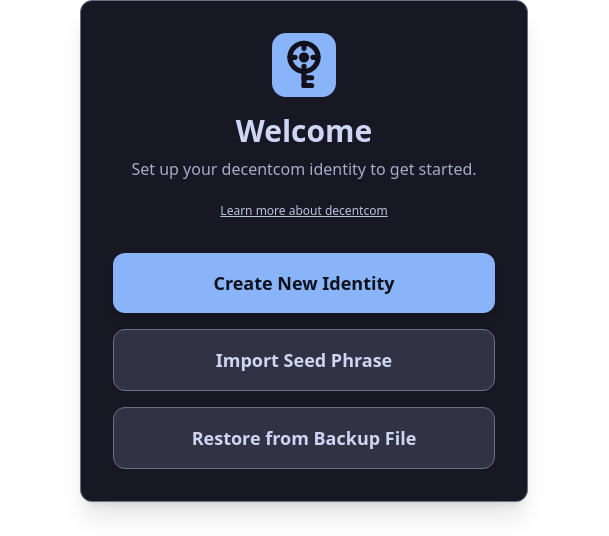
Test: Setup › clicking "Restore from Backup File" transitions to the backup import view
This screenshot has width=609, height=536.
Click the button "Restore from Backup File" at x=304, y=438, box x1=113 y1=407 x2=495 y2=469
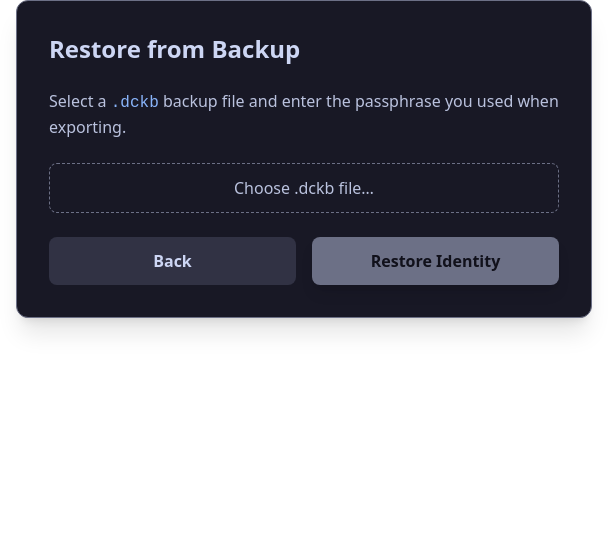
Expected: the heading "Restore from Backup" is shown, x1=49 y1=32 x2=300 y2=65
Expected: the button "Choose .dckb file…" is shown, x1=49 y1=163 x2=559 y2=213
